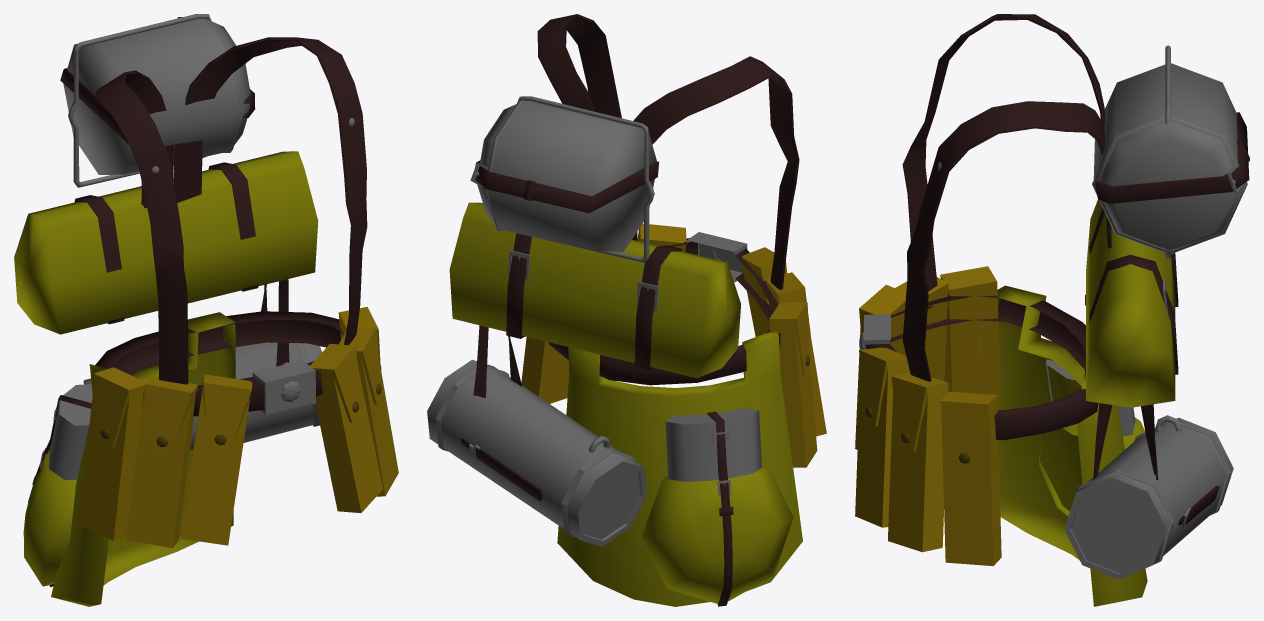
File: equip_two_landser.fbx
3 views of the same model, side by side, from view 1: azimuth 30°, elevation 25°; view 2: azimuth 150°, elevation 25°; view 3: azimuth 270°, elevation 25° (orthographic). The views are drawn at different scales.
Visible parts, largest first — view 1: equip_two_landser; view 2: equip_two_landser; view 3: equip_two_landser.
Part boxes in pixels (x1=…): equip_two_landser: x1=14, y1=14, x2=398, y2=606; equip_two_landser: x1=427, y1=14, x2=826, y2=606; equip_two_landser: x1=855, y1=14, x2=1249, y2=606.
Size of the model in its own units: 42.04 by 65.49 by 42.51.
